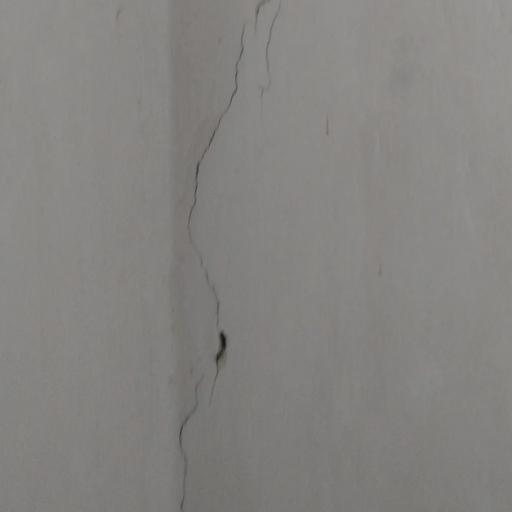minor_crack: (149, 0, 290, 512)
